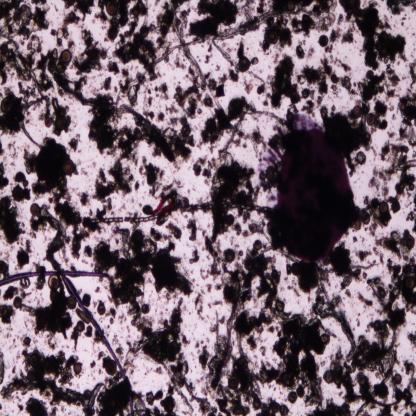Background material: (200, 158, 258, 280), (207, 330, 288, 416), (3, 344, 100, 413), (110, 224, 195, 299), (219, 237, 288, 316), (258, 312, 330, 385), (338, 0, 407, 69), (127, 300, 192, 367), (320, 104, 374, 170), (353, 359, 416, 415), (365, 254, 416, 323), (22, 137, 77, 198), (40, 42, 87, 110), (356, 323, 401, 380), (110, 22, 156, 75), (284, 260, 342, 302), (26, 289, 72, 341), (91, 156, 134, 204), (0, 0, 49, 42), (87, 91, 118, 157), (190, 0, 241, 39), (266, 54, 302, 108), (138, 157, 181, 199), (163, 110, 198, 161), (330, 347, 358, 403), (156, 2, 190, 48), (330, 247, 366, 290), (73, 28, 107, 72), (290, 0, 336, 32), (321, 60, 358, 98), (298, 354, 324, 408), (171, 80, 210, 115), (0, 192, 25, 244), (231, 309, 274, 338), (388, 168, 416, 212), (82, 244, 122, 274), (374, 229, 410, 262), (264, 16, 294, 55), (96, 380, 132, 412), (397, 89, 416, 148), (364, 196, 392, 236), (380, 139, 416, 170), (199, 108, 228, 146), (297, 62, 329, 96), (0, 88, 23, 134), (104, 1, 130, 41), (358, 69, 384, 103), (52, 10, 78, 44), (116, 65, 141, 100), (0, 43, 19, 87), (307, 396, 353, 414), (224, 98, 258, 121), (62, 0, 95, 21), (148, 224, 181, 243), (192, 156, 218, 180), (13, 171, 32, 202), (370, 168, 390, 196), (195, 338, 211, 372), (16, 237, 32, 270), (385, 0, 416, 17), (144, 84, 169, 104), (26, 396, 49, 416), (330, 54, 352, 73), (242, 1, 265, 19), (0, 296, 14, 325), (96, 198, 116, 218), (185, 216, 199, 244), (340, 21, 356, 45), (384, 64, 399, 88), (194, 292, 206, 322), (195, 396, 213, 416), (146, 386, 163, 406), (354, 248, 374, 262), (0, 162, 10, 190), (356, 291, 373, 307), (105, 57, 119, 76), (218, 68, 237, 82), (404, 211, 416, 233), (106, 307, 117, 330), (19, 332, 33, 350), (187, 247, 201, 265), (96, 1, 108, 22), (302, 99, 316, 117), (408, 59, 416, 90), (67, 135, 82, 151), (70, 329, 80, 352), (114, 340, 126, 358), (95, 297, 106, 316), (405, 329, 416, 348), (384, 87, 400, 100), (294, 41, 306, 58), (0, 258, 10, 278), (78, 188, 89, 206), (329, 28, 341, 43), (7, 144, 18, 160), (205, 42, 213, 64), (300, 88, 315, 99), (102, 76, 112, 92), (356, 151, 366, 167), (0, 352, 5, 383), (235, 41, 244, 58), (82, 292, 92, 307), (306, 45, 315, 61), (155, 112, 167, 124), (87, 358, 98, 370), (244, 80, 253, 94), (255, 83, 266, 94), (95, 348, 107, 358), (250, 56, 261, 66), (212, 298, 223, 308), (213, 282, 223, 292), (324, 43, 333, 54), (385, 129, 396, 138), (44, 117, 52, 128), (0, 140, 5, 157), (264, 94, 270, 107), (206, 282, 213, 293), (338, 14, 344, 25), (413, 190, 416, 212), (401, 16, 406, 26)
Cellulose filter fibre: (129, 6, 312, 85), (169, 16, 223, 111), (112, 108, 174, 162), (316, 300, 357, 360), (213, 41, 262, 82), (20, 94, 51, 150), (159, 363, 195, 409), (40, 206, 70, 254), (220, 113, 244, 157), (243, 108, 285, 126)
Cotton: (149, 196, 176, 218)
Diatom: (15, 50, 42, 96), (75, 308, 90, 326), (12, 184, 24, 204), (104, 358, 117, 376), (239, 54, 250, 72), (106, 0, 118, 16), (378, 200, 389, 216), (49, 274, 60, 290), (63, 160, 74, 176), (60, 50, 72, 64), (226, 376, 238, 390), (322, 370, 334, 384), (1, 97, 12, 112), (55, 115, 66, 130), (404, 236, 415, 250), (224, 248, 235, 262), (73, 360, 83, 375), (318, 33, 328, 48), (30, 202, 40, 216), (366, 112, 376, 125), (67, 297, 77, 310), (352, 105, 362, 118), (361, 211, 370, 225), (180, 196, 190, 207), (13, 297, 23, 308), (76, 322, 86, 333), (140, 303, 150, 314), (288, 390, 297, 402), (393, 372, 402, 383)
Hair textile: (52, 260, 136, 414), (0, 269, 110, 292)
Pen: (255, 108, 359, 273)
